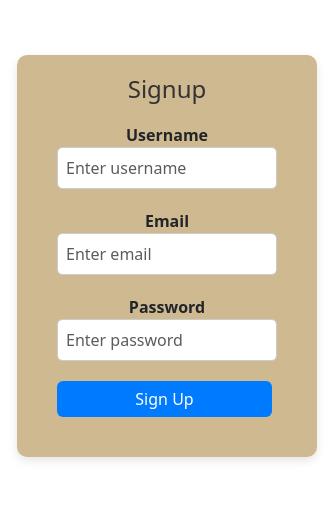
Test: SignUp Component › displays error message on failed signup
Type "testuser" into the field labelled "Username" at (167, 168), box [57, 147, 277, 189]
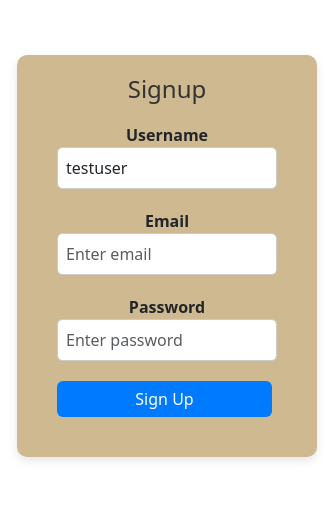
Type "testuser@example.com" into the field labelled "Email" at (167, 254), box [57, 233, 277, 275]
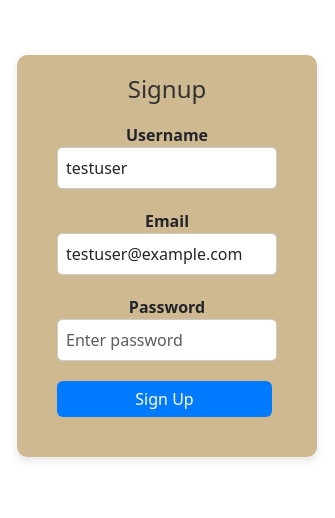
Type "securepassword" into the password field labelled "Password" at (167, 340), box [57, 319, 277, 361]
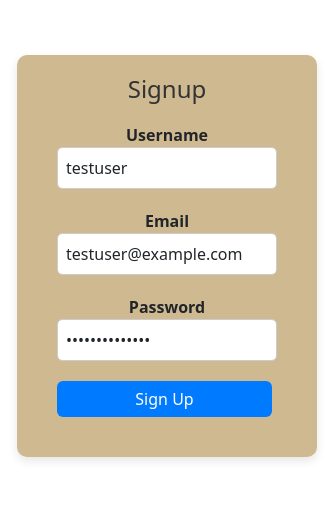
Click the button "Sign Up" at (164, 399), box [57, 381, 272, 417]
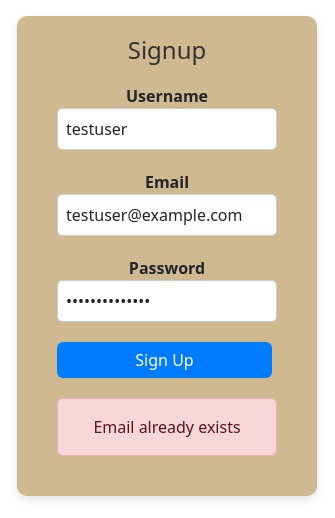
expect the text "Email already exists" is shown: met, box [57, 398, 277, 456]
